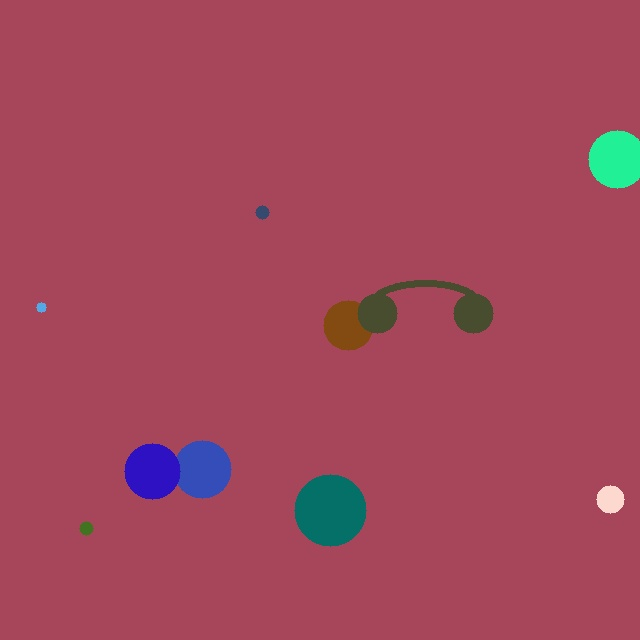over_ear: (353, 261, 497, 337)
